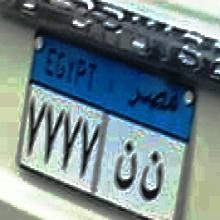7: (82, 123, 100, 182), (27, 100, 44, 154), (64, 116, 80, 172), (47, 109, 61, 163)
noon: (140, 146, 162, 208), (114, 138, 136, 194)
